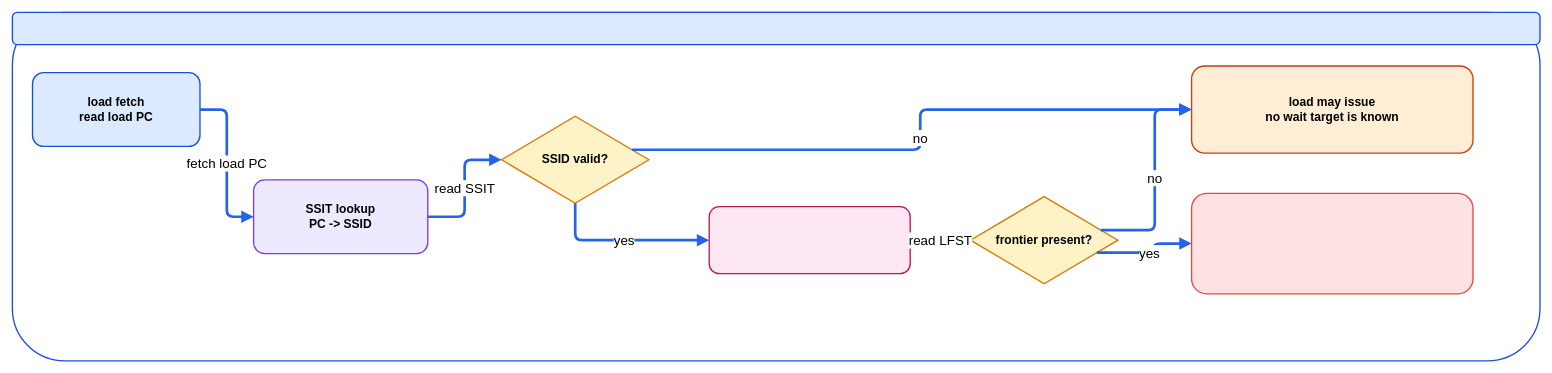
This 1552x373 diagram has some shape labels left out. Here are the shapes that lost their labels. From the top down, the box of each, then its label:
(11, 11, 1540, 45): Fetch A Load
(708, 206, 911, 274): LFST lookup SSID -> frontier store
(1191, 192, 1473, 294): load waits stall behind the recorded LFST frontier store
